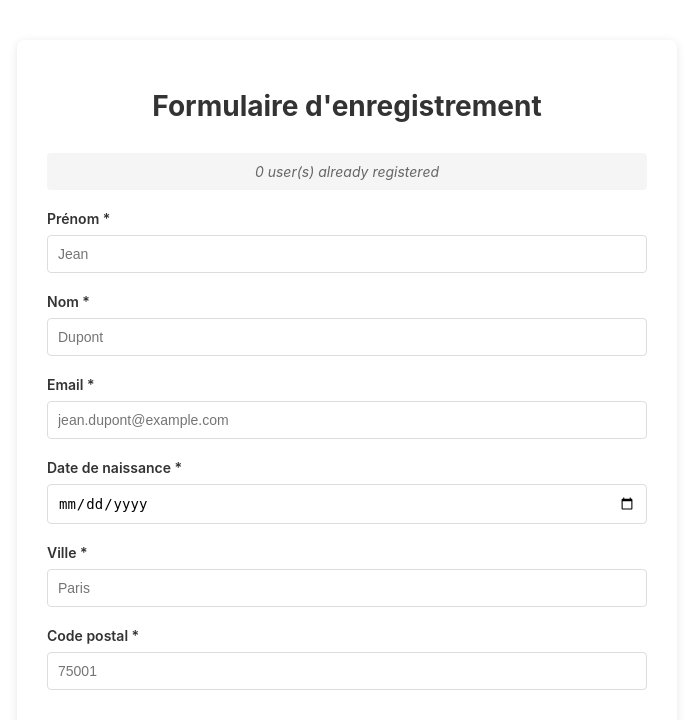
Test: RegisterForm Integration Tests › should show error for invalid postal code
Type "750" into the field with test id "input-postalCode" at (347, 671), box x1=47 y1=652 x2=647 y2=690
(page scrolled)
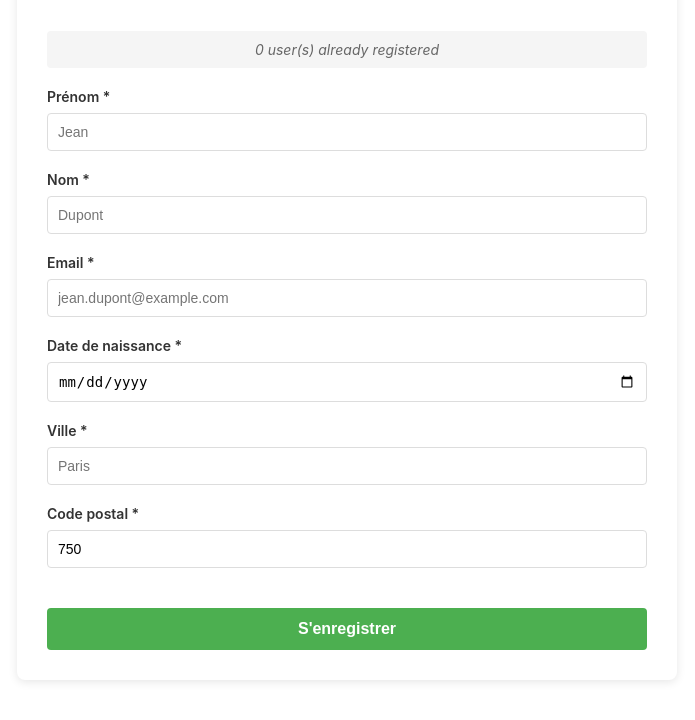
Click the button "S'enregistrer" at (347, 629), box x1=47 y1=608 x2=647 y2=650
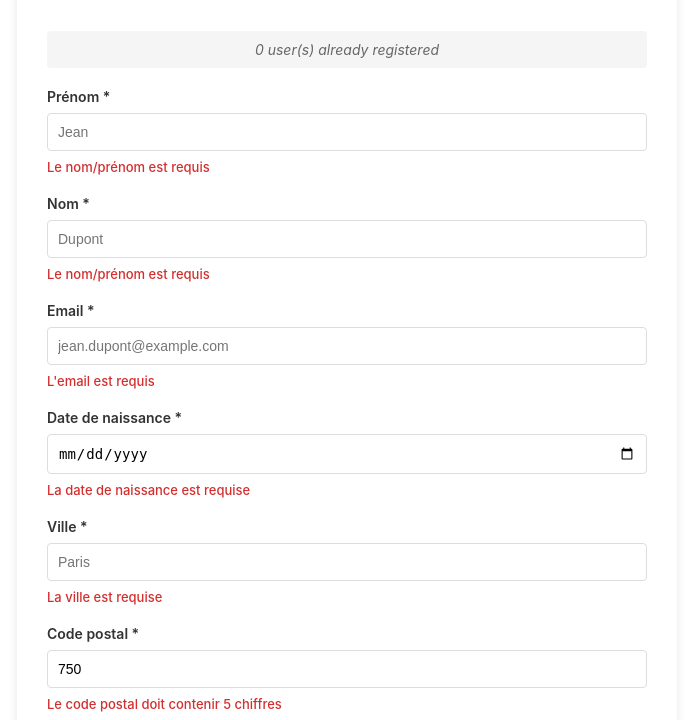
Expected: the text with test id "error-postalCode" shows "5 chiffres", x1=47 y1=696 x2=282 y2=712
